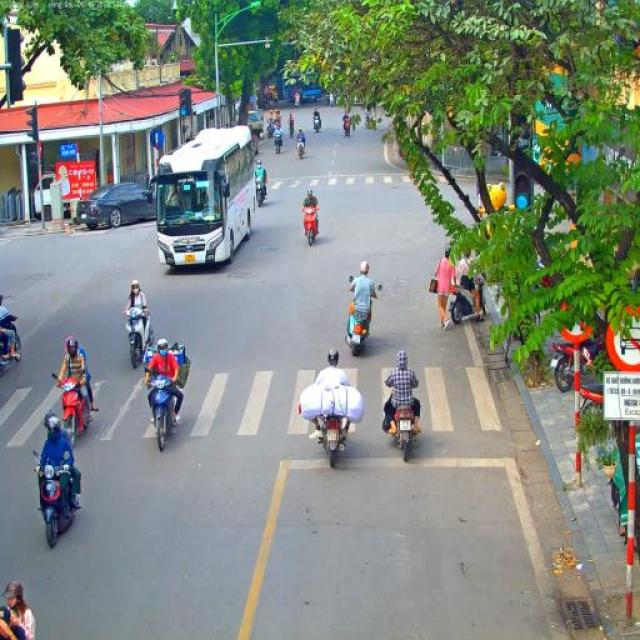bus: (146, 124, 258, 272), (289, 72, 323, 102)
car: (75, 180, 157, 230)
motorcycle: (142, 341, 190, 452), (33, 450, 79, 550), (345, 274, 384, 357), (52, 372, 93, 448), (550, 340, 602, 392), (309, 411, 350, 469), (122, 306, 154, 370), (386, 402, 419, 462), (448, 284, 487, 326), (0, 312, 22, 377), (608, 472, 627, 536), (580, 382, 604, 428), (301, 205, 318, 246), (255, 176, 267, 208), (296, 138, 306, 160), (342, 118, 352, 136), (363, 112, 372, 130), (274, 134, 282, 154), (266, 120, 274, 140), (313, 114, 321, 132), (294, 97, 300, 108)
truck: (34, 170, 76, 222), (246, 110, 264, 138)
